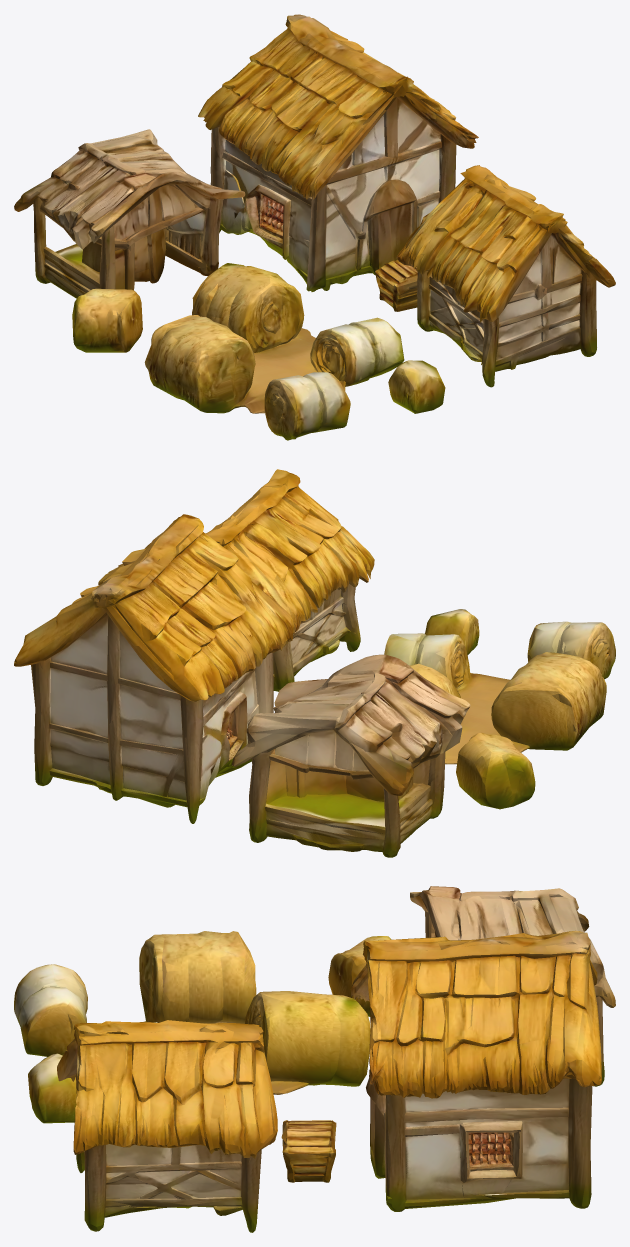
3 views of the same model, one above another, from view 1: azimuth 30°, elevation 25°; view 2: azimuth 150°, elevation 25°; view 3: azimuth 270°, elevation 25° (orthographic). The views are drawn at different scales.
Visible parts, largest first — view 1: model; view 2: model; view 3: model.
Part boxes in pixels (x1,y1,x2,y2): model: (14, 14, 615, 440); model: (14, 469, 615, 857); model: (14, 886, 615, 1232).
Bounding box in the file's own units: 1.8 × 0.877 × 1.9.
Materials: 1 (1 with a texture image).
